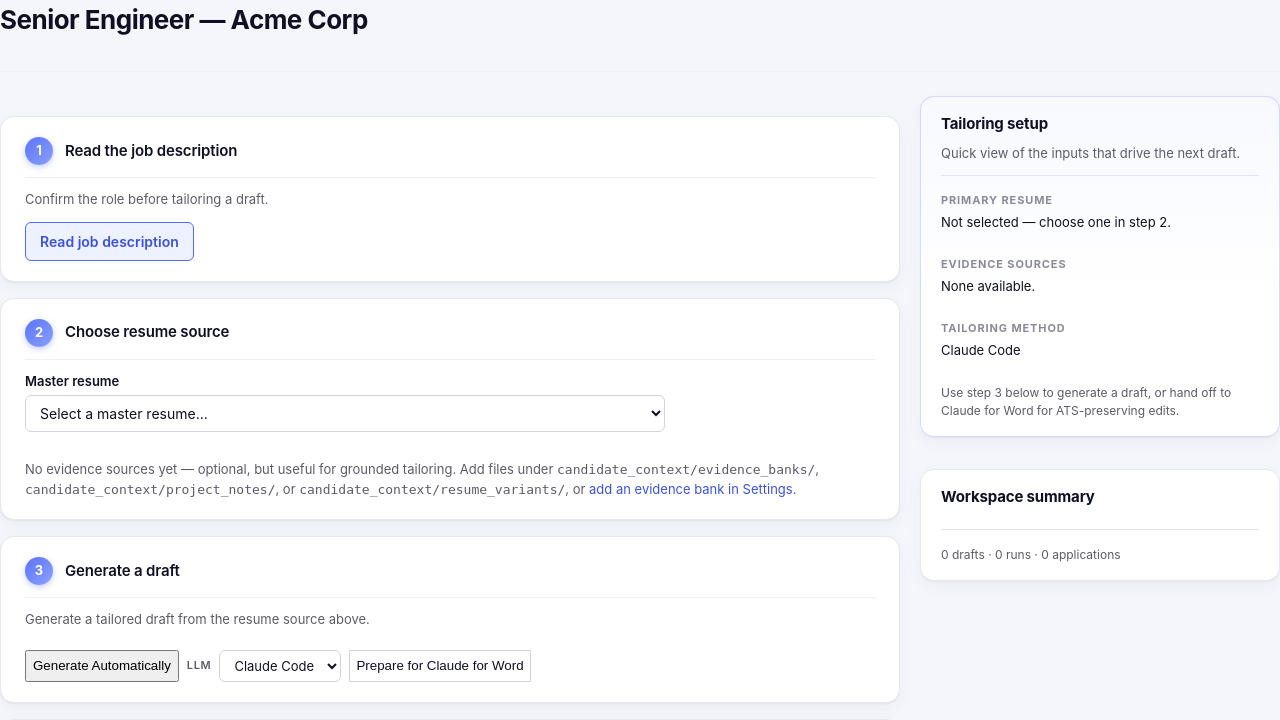
JobDetailPage five-step workspace › exposes the job description as a clickable toggle button
This screenshot has width=1280, height=720.
Check: the heading "Senior Engineer — Acme Corp" is shown, box [0, 0, 368, 39]
Check: the text "build great things" is not shown
What coordinates should you click on to do the following:
click the button "Read job description"
I would click on:
 (109, 241)
Its box is [25, 222, 194, 260].
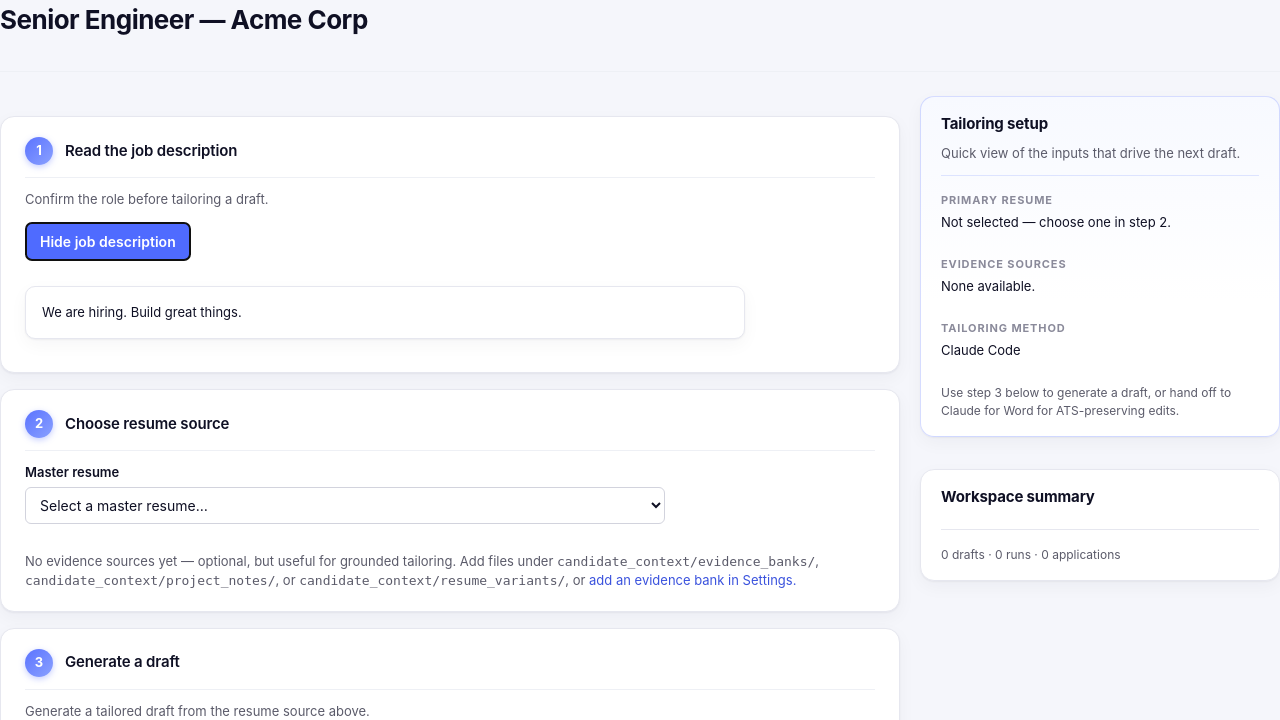
Check: the button named "read job description" is expanded, box [25, 222, 191, 260]
Check: the text "We are hiring. Build great things." is shown, box [25, 286, 745, 339]
